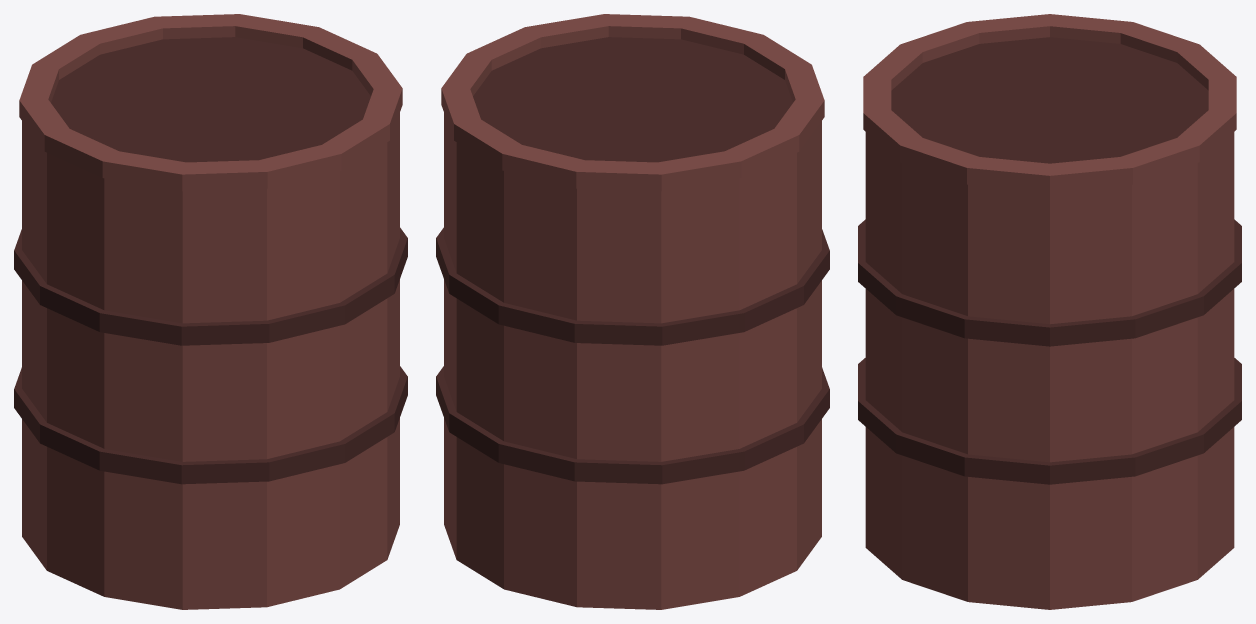
The model's file is oc_chembarrel.obj.
3 renders of one model, left to right at view 1: azimuth 30°, elevation 25°; view 2: azimuth 150°, elevation 25°; view 3: azimuth 270°, elevation 25°, orthographic.
Visible parts, largest first — view 1: oc_chembarrel_0, oc_chembarrel_4, oc_chembarrel_3, oc_chembarrel_1, oc_chembarrel_2; view 2: oc_chembarrel_0, oc_chembarrel_4, oc_chembarrel_3, oc_chembarrel_1, oc_chembarrel_2; view 3: oc_chembarrel_0, oc_chembarrel_4, oc_chembarrel_3, oc_chembarrel_2, oc_chembarrel_1.
Part boxes in pixels (bbox=[...]): oc_chembarrel_0: bbox=[22, 113, 399, 609]; oc_chembarrel_4: bbox=[51, 37, 370, 162]; oc_chembarrel_3: bbox=[19, 14, 402, 191]; oc_chembarrel_1: bbox=[14, 366, 407, 484]; oc_chembarrel_2: bbox=[14, 227, 407, 345]; oc_chembarrel_0: bbox=[444, 113, 821, 609]; oc_chembarrel_4: bbox=[473, 37, 792, 162]; oc_chembarrel_3: bbox=[441, 14, 824, 191]; oc_chembarrel_1: bbox=[436, 366, 829, 484]; oc_chembarrel_2: bbox=[436, 227, 829, 345]; oc_chembarrel_0: bbox=[865, 132, 1234, 609]; oc_chembarrel_4: bbox=[891, 37, 1208, 163]; oc_chembarrel_3: bbox=[863, 14, 1236, 192]; oc_chembarrel_2: bbox=[858, 219, 1241, 346]; oc_chembarrel_1: bbox=[858, 358, 1241, 484].
Size of the model in its own units: 0.75 by 0.915 by 0.7312.
